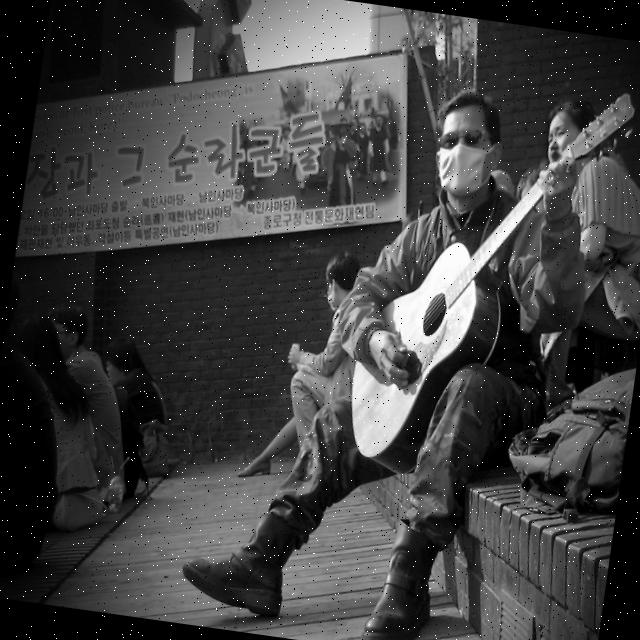guitar: (341, 61, 640, 505)
